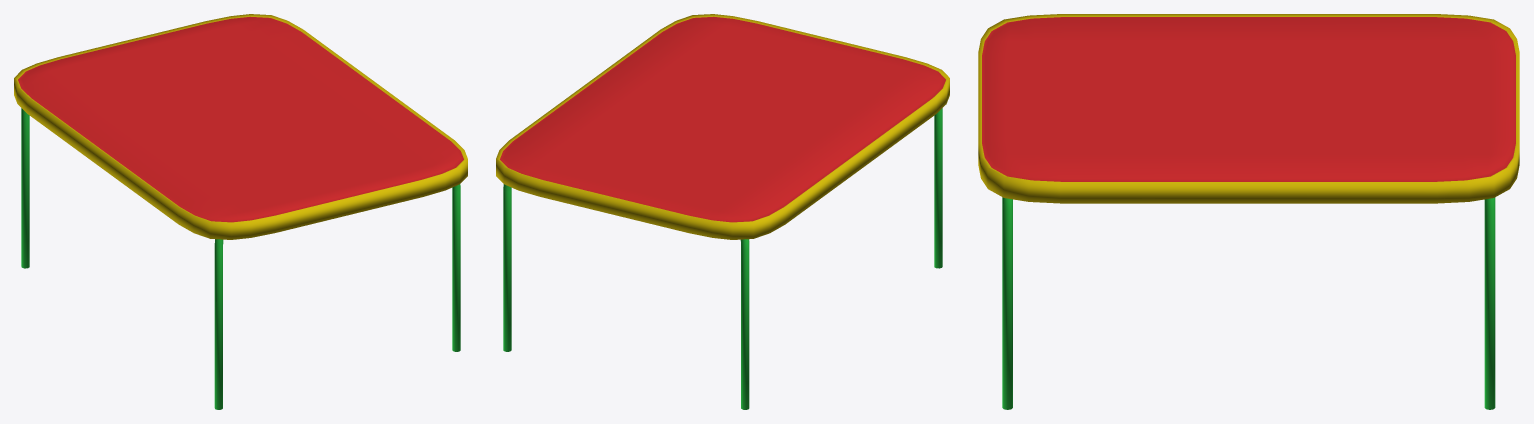
Rendered from MOD_FUR_Kitchen_table_02.fbx.
The picture shows the model from 3 angles, left to right: view 1: azimuth 30°, elevation 25°; view 2: azimuth 150°, elevation 25°; view 3: azimuth 270°, elevation 25°; orthographic projection. The views are drawn at different scales.
Visible parts, largest first — view 1: HSHP_MOD_Kitchen_table_02; view 2: HSHP_MOD_Kitchen_table_02; view 3: HSHP_MOD_Kitchen_table_02.
Boxes of the visible parts, bbox=[...] form: HSHP_MOD_Kitchen_table_02: bbox=[14, 14, 467, 409]; HSHP_MOD_Kitchen_table_02: bbox=[496, 14, 949, 409]; HSHP_MOD_Kitchen_table_02: bbox=[978, 14, 1519, 409].
Bounding box in the file's own units: 1.23 × 0.8079 × 1.67.
